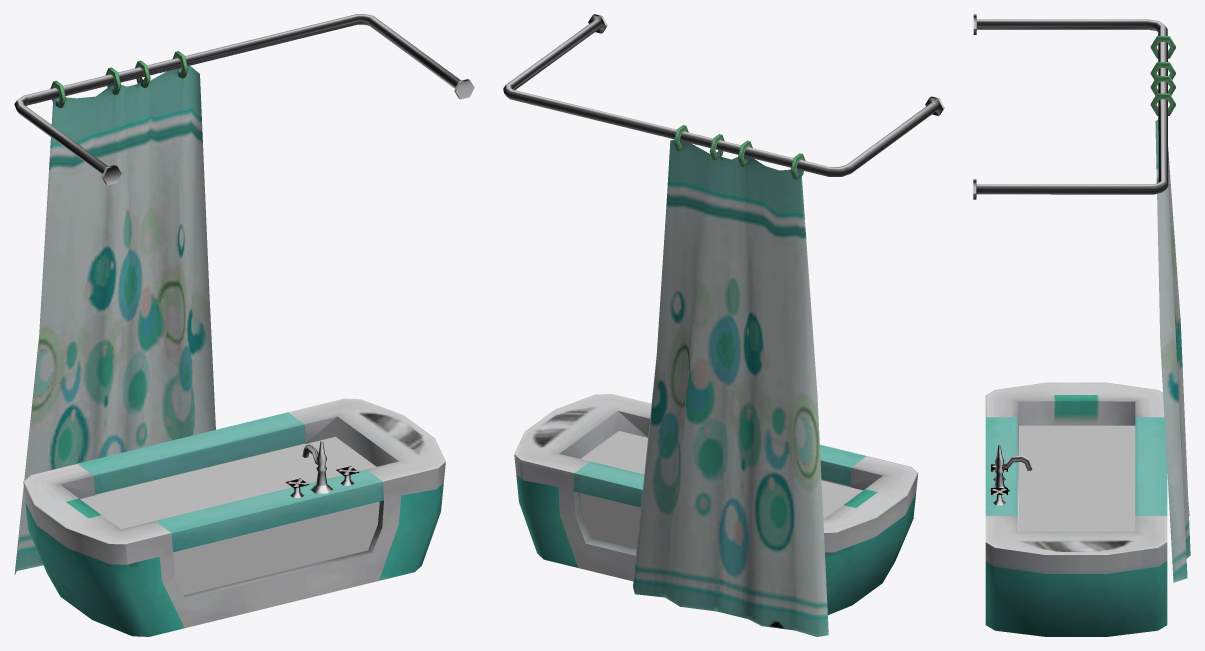
The model's file is furni_0200524_02.FBX.
3 renders of one model, left to right at view 1: azimuth 30°, elevation 25°; view 2: azimuth 150°, elevation 25°; view 3: azimuth 270°, elevation 25°, orthographic. The views are drawn at different scales.
Visible parts, largest first — view 1: furni_0200524_02; view 2: furni_0200524_02; view 3: furni_0200524_02.
Part boxes in pixels (bbox=[...]): furni_0200524_02: bbox=[14, 14, 474, 636]; furni_0200524_02: bbox=[503, 14, 944, 636]; furni_0200524_02: bbox=[973, 14, 1190, 636].
Size of the model in its own units: 161 by 202 by 85.19.
